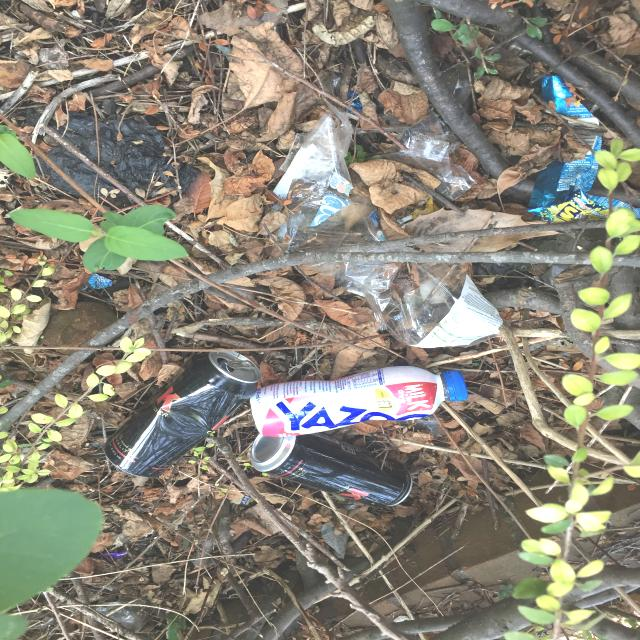Aluminium foil: (93, 273, 113, 288), (347, 97, 362, 113), (88, 274, 103, 289)
Clear plastic bottle: (250, 366, 468, 437)
Drink can: (104, 348, 262, 477), (250, 432, 413, 508)
Normal paper: (322, 524, 349, 559)
Other plastic: (525, 75, 612, 221), (110, 551, 127, 561)
Plastic bottle cap: (447, 370, 468, 401)
Plastic film: (273, 69, 387, 260), (298, 252, 503, 348), (371, 112, 477, 202), (106, 605, 142, 630)
Pop tab: (227, 360, 255, 369)
